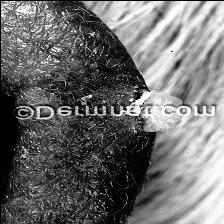Potentially Malignant Skin Tumors: (137, 87, 179, 132)
